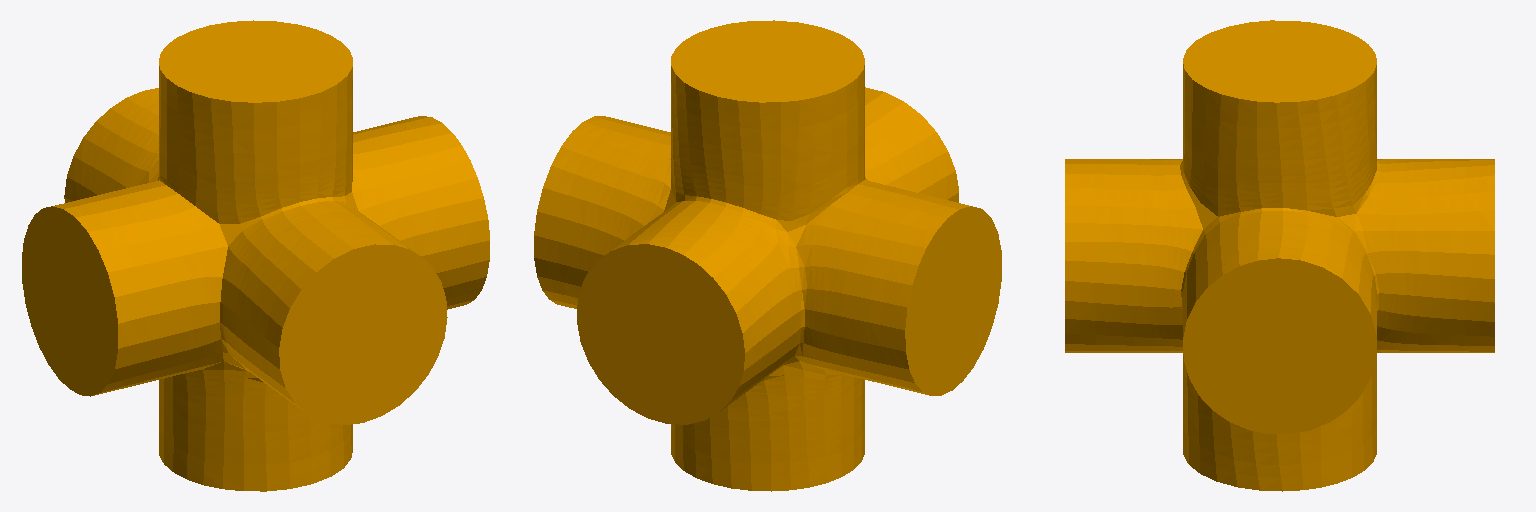
robot.urdf — object:
<robot name="object">
  <link name="object">
    <visual>
      <origin xyz="0 0 0"/>
      <geometry>
        <mesh filename="visual.obj" scale="1 1 1"/>
      </geometry>
    </visual>
    <collision>
      <origin xyz="0 0 0"/>
      <geometry>
        <mesh filename="visual.obj" scale="1 1 1"/>
      </geometry>
    </collision>
    <inertial>
      <mass value="0.05"/>
      <inertia ixx="4.139724313609217e-05" iyy="4.1386918126859566e-05" izz="4.138775843815789e-05" ixy="7.140731382045727e-09" ixz="-2.7469815415725727e-10" iyz="-3.2730855684391484e-10"/>
    </inertial>
  </link>
</robot>

--- What the picture shows (computed from the rendered views, not written in the file) ---
Views: 3 orthographic renders of the robot side by side, from view 1: azimuth 30°, elevation 25°; view 2: azimuth 150°, elevation 25°; view 3: azimuth 270°, elevation 25°.
Model object with 1 links and 0 joints (none), rooted at object, posed all joints at 0.
Visible links, largest first — view 1: object; view 2: object; view 3: object.
Boxes of the visible links, bbox=[...] form: object: bbox=[22, 20, 489, 491]; object: bbox=[534, 20, 1001, 491]; object: bbox=[1065, 20, 1494, 491].
Bounding box of the posed robot: 0.096 × 0.096 × 0.096 m (x, y, z).
Meshes: 1 distinct files referenced, 1 mesh visuals loaded (1 OBJ).
